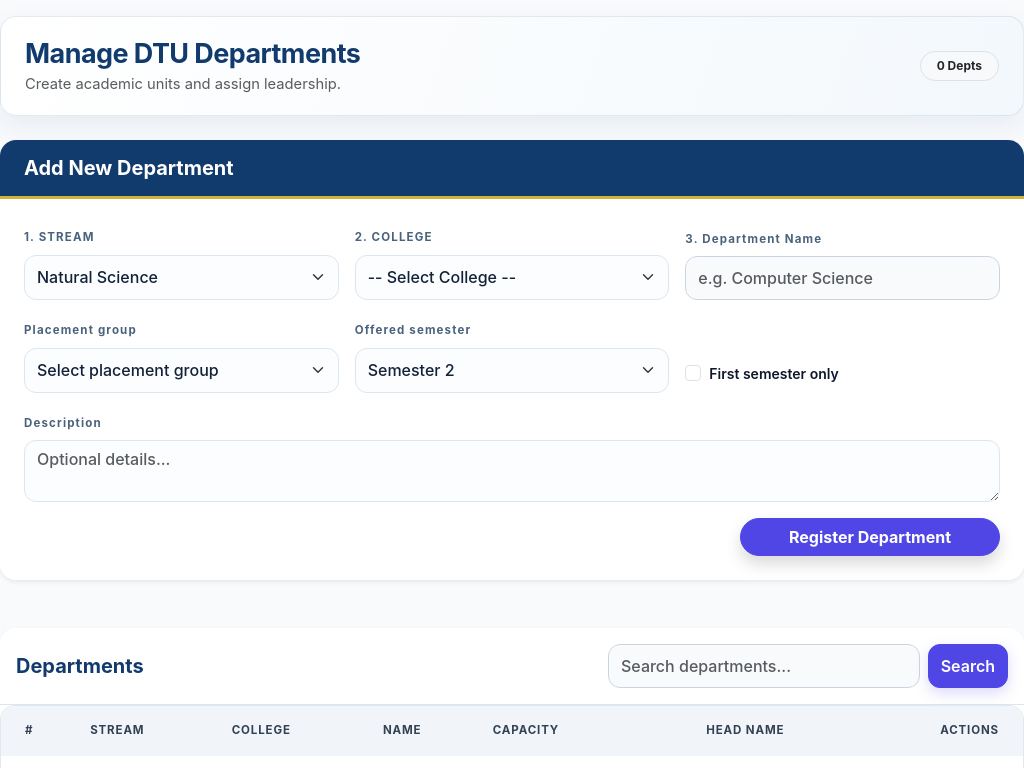
Test: ManageDepartments › deduplicates the Technology aliases and blocks adding an existing college alias
This screenshot has width=1024, height=768.
Select "+ Add New College" in the dropdown named "College" at point(512, 278), box x1=355 y1=255 x2=669 y2=300
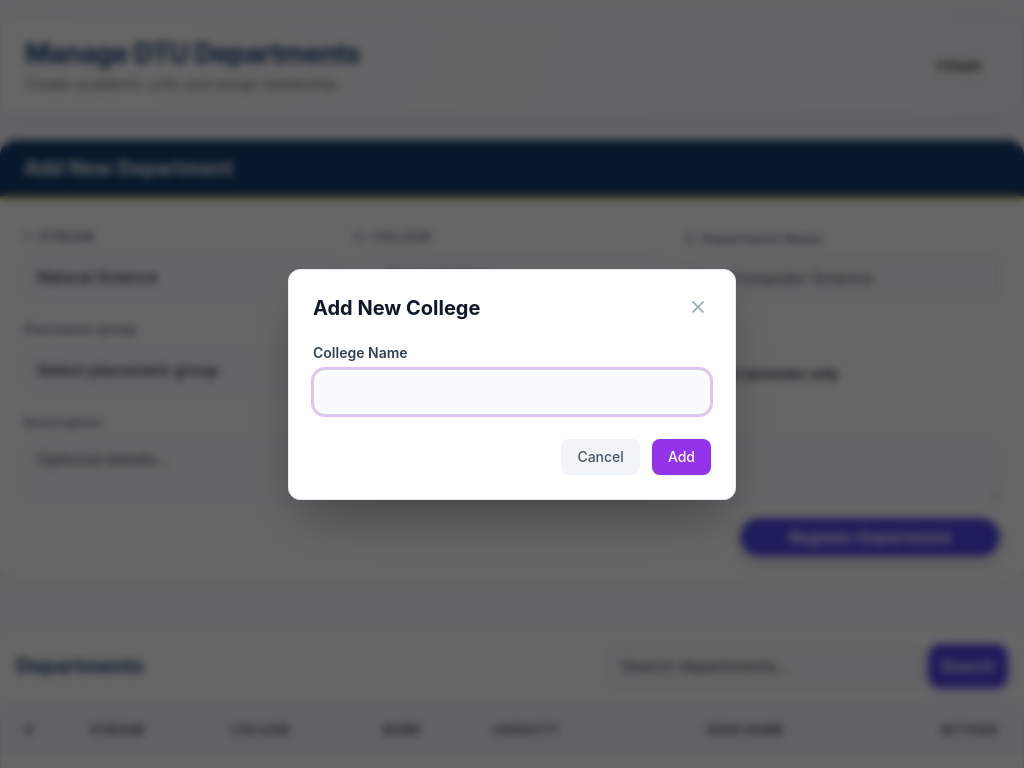
Type " GAFAT INSTITUTE OF TECHNOLOGY " into the field labelled "College Name" at point(512, 392), box x1=313 y1=368 x2=711 y2=414
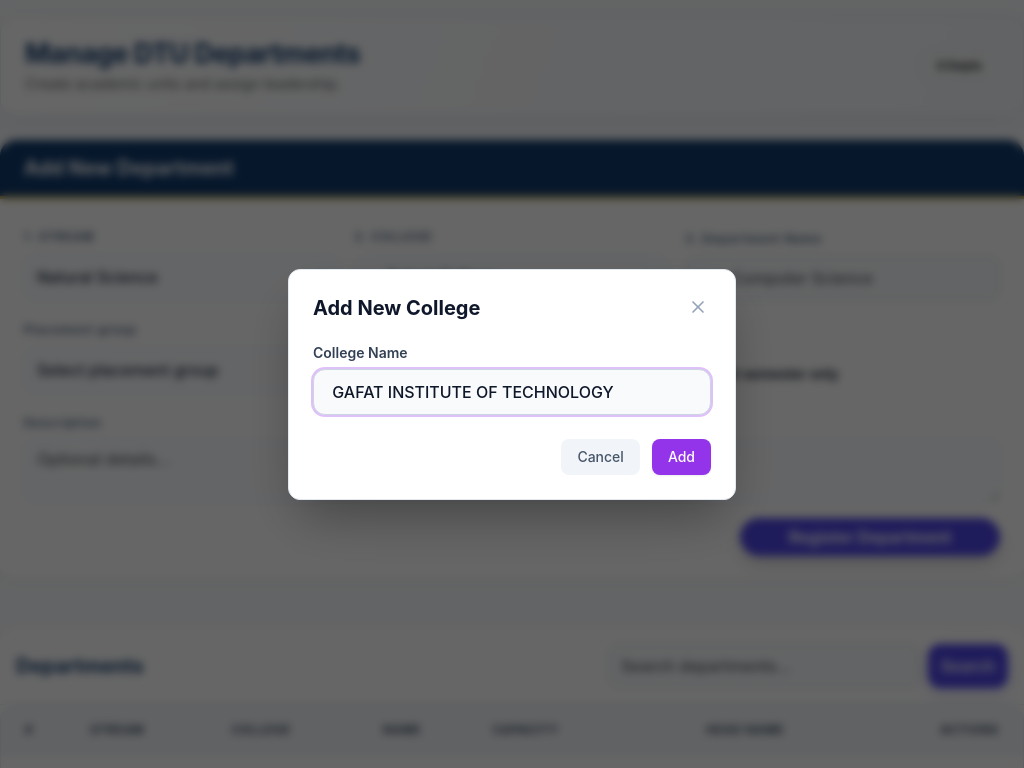
Click the button "Add" at point(681, 456), box x1=652 y1=438 x2=711 y2=474
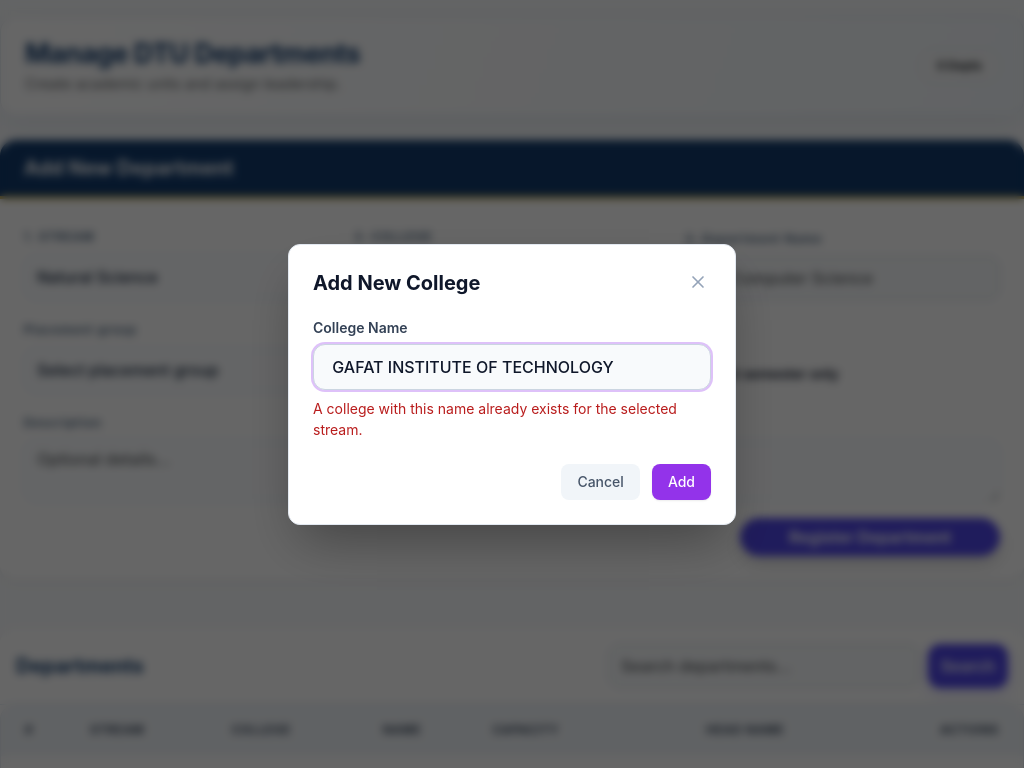
Check: the message reads "A college with this name already exists for the selected stream.", box x1=313 y1=400 x2=677 y2=438
